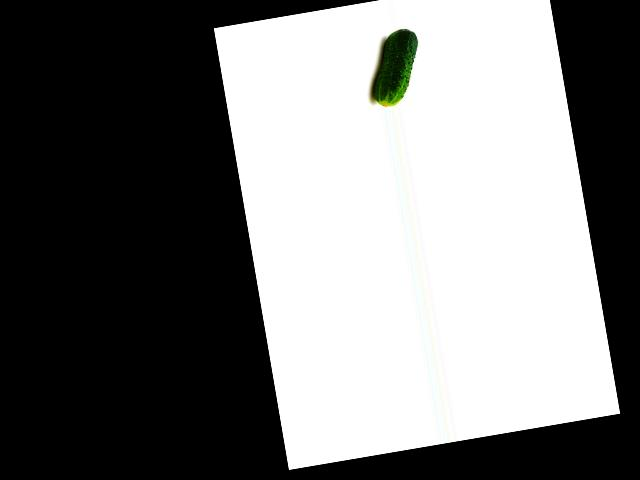cucumber: (363, 27, 427, 108)
